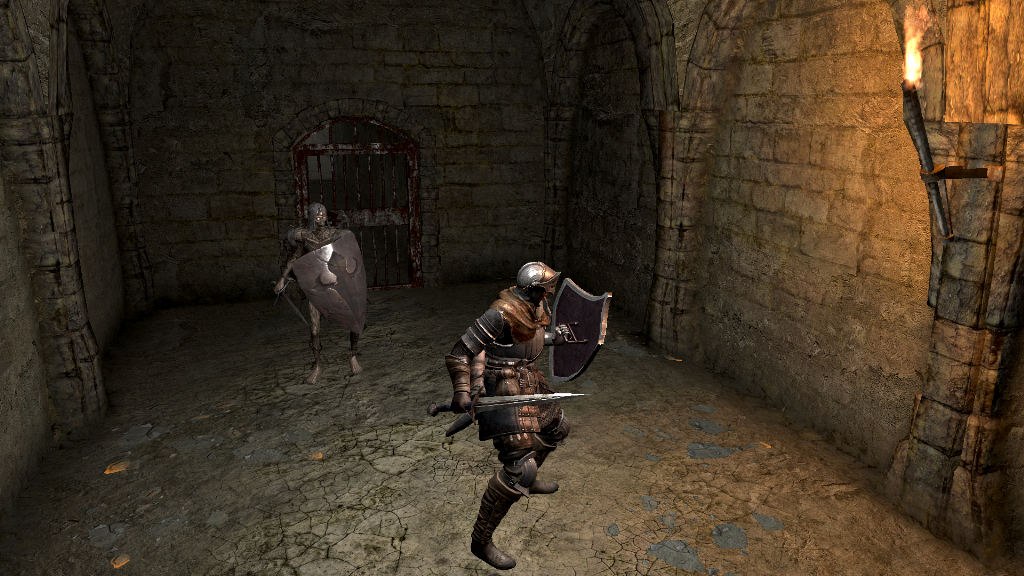player: (425, 258, 615, 572)
undeadSoldier: (274, 202, 364, 385)
